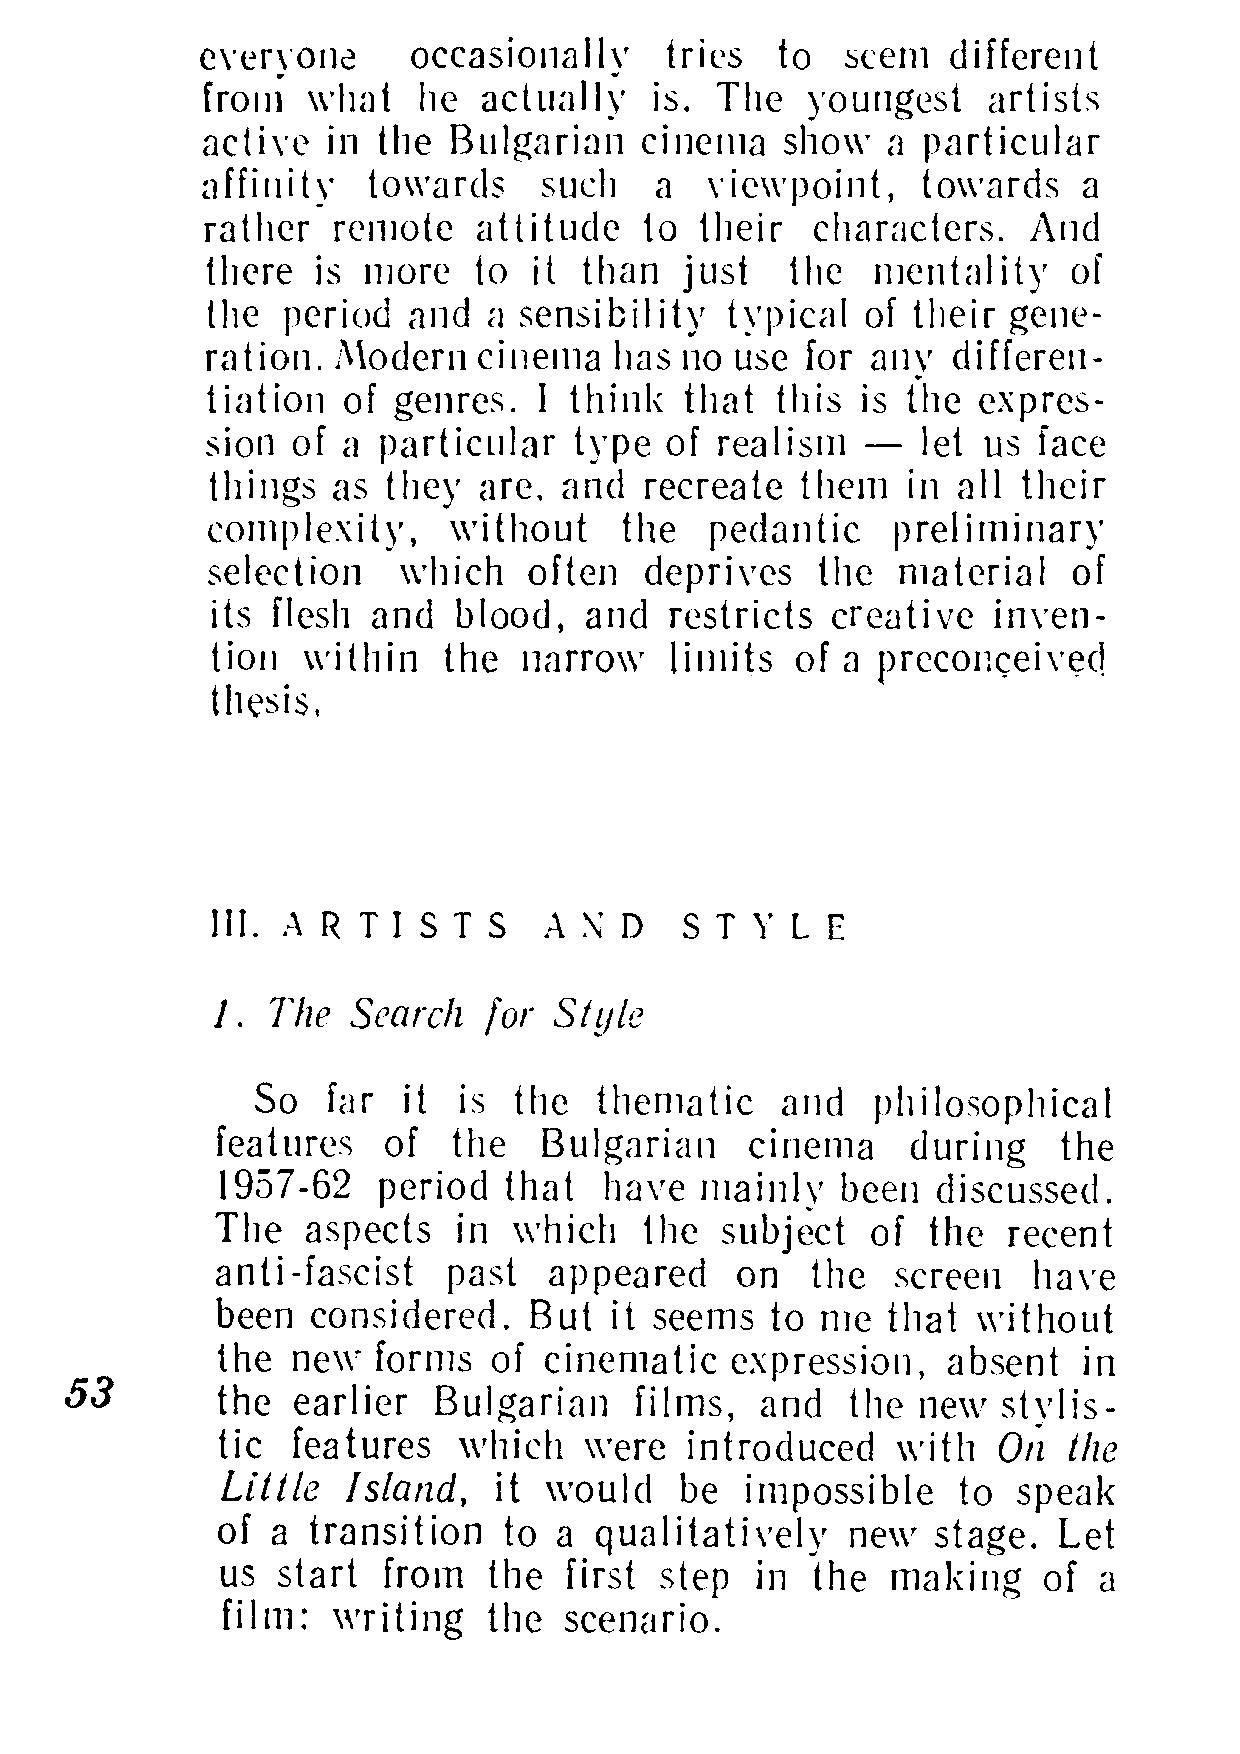chapter: (205, 903, 847, 947), (208, 992, 647, 1039)
content: (192, 39, 1108, 723), (209, 1078, 1123, 1645)
content_pagenumber: (56, 1369, 117, 1413)
